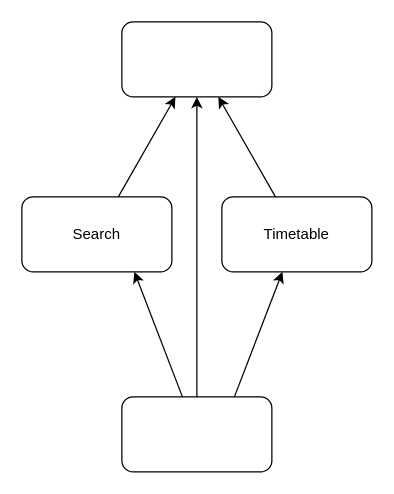
Some shapes in this 394 by 494 pixel diagram are drawn without their labels. The box of each missing label's shape, as (x1, y1, x2, y2) in pixels:
app: (121, 21, 272, 97)
core: (121, 396, 272, 472)
